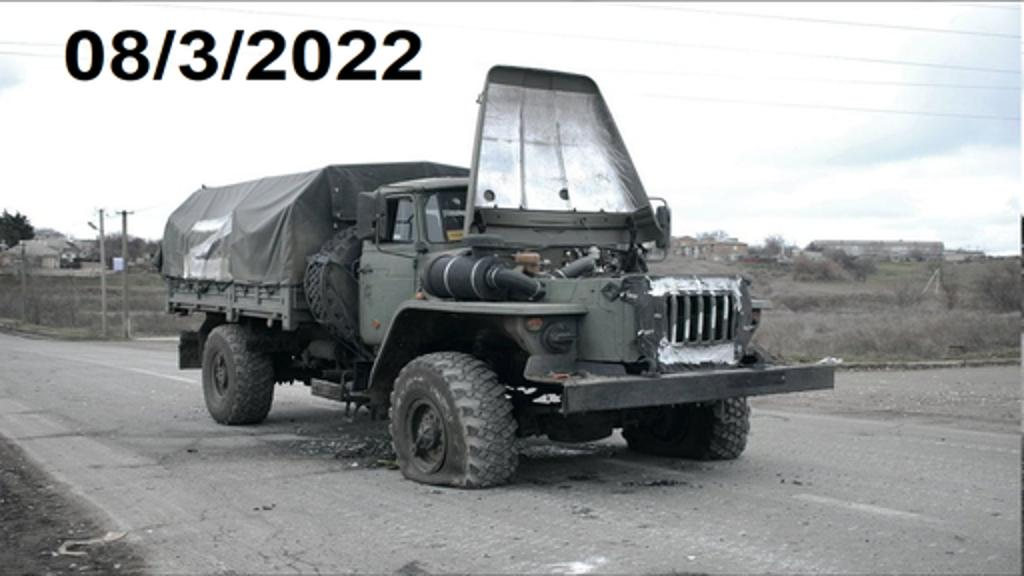TRUCK: (152, 152, 836, 480)
